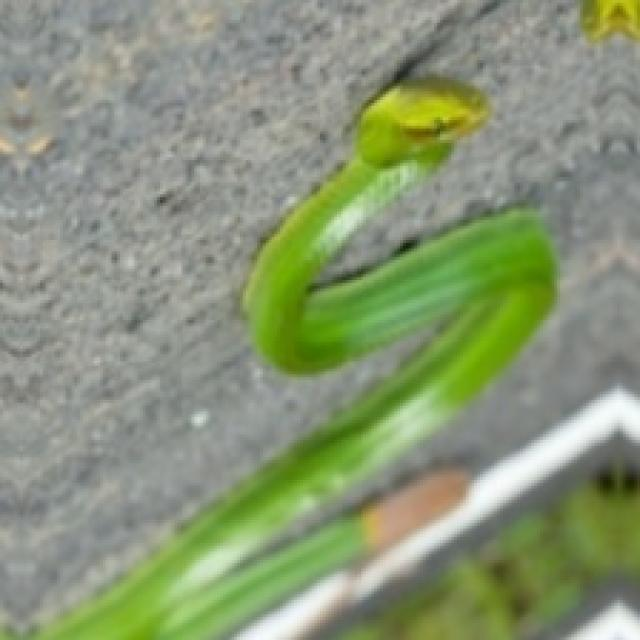red-tailed green ratsnake: (26, 77, 554, 637)
